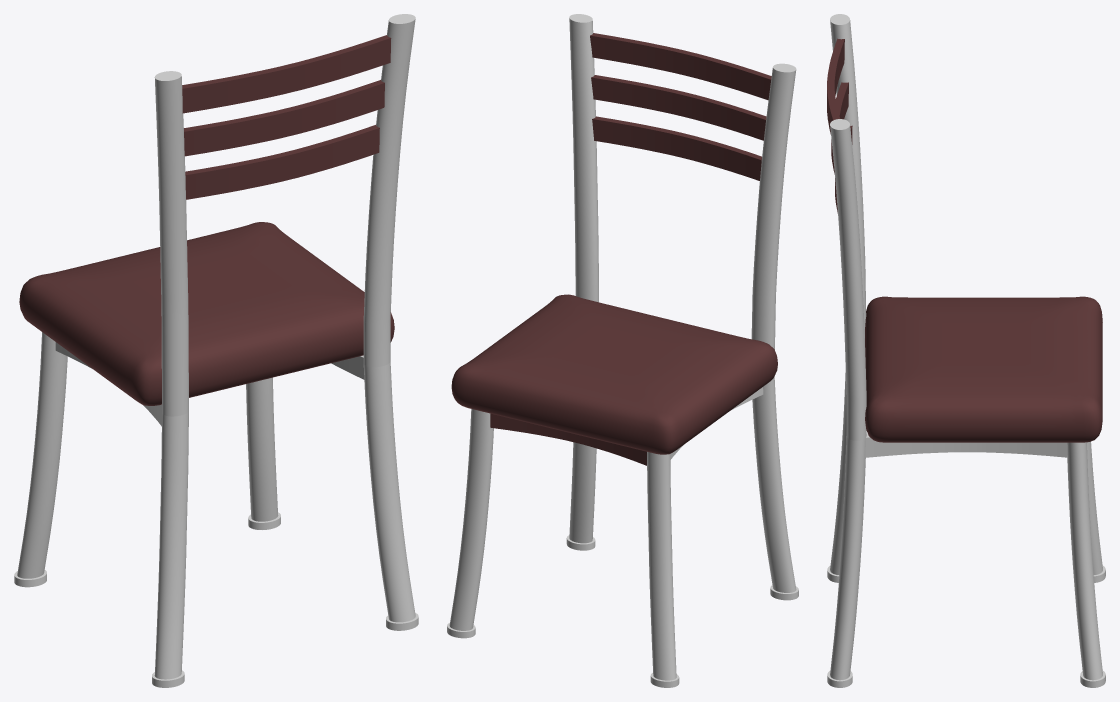
File: Chaise1_5.fbx
3 renders of one model, left to right at view 1: azimuth 30°, elevation 25°; view 2: azimuth 150°, elevation 25°; view 3: azimuth 270°, elevation 25°, orthographic. The views are drawn at different scales.
Visible parts, largest first — view 1: pCube2654, pCylinder1646, pCylinder1647, pCylinder1651, pCylinder1650, pCylinder1648, pCube2653, pCube2652, pCube2651, pCylinder1649; view 2: pCube2654, pCylinder1646, pCylinder1647, pCylinder1648, pCylinder1649, pCylinder1651, pCube2653, pCube2652, pCube2651, pCylinder1650, pCube2659; view 3: pCube2654, pCylinder1647, pCylinder1650, pCylinder1649, pCylinder1646, pCube2655, pCylinder1651, pCylinder1648, pCube2653, pCube2652.
Part boxes in pixels (x1,y1,x2,y2): pCube2654: [19, 222, 394, 405]; pCylinder1646: [154, 71, 188, 416]; pCylinder1647: [363, 14, 415, 367]; pCylinder1651: [152, 411, 188, 687]; pCylinder1650: [363, 362, 418, 630]; pCylinder1648: [14, 332, 67, 587]; pCube2653: [182, 35, 391, 113]; pCube2652: [184, 80, 384, 156]; pCube2651: [185, 125, 379, 199]; pCylinder1649: [246, 377, 280, 529]; pCube2654: [451, 294, 777, 454]; pCylinder1646: [751, 63, 796, 349]; pCylinder1647: [569, 14, 598, 302]; pCylinder1648: [647, 452, 679, 687]; pCylinder1649: [447, 409, 493, 638]; pCylinder1651: [752, 376, 798, 600]; pCube2653: [590, 33, 771, 100]; pCube2652: [591, 75, 766, 140]; pCube2651: [592, 116, 761, 180]; pCylinder1650: [566, 442, 596, 550]; pCube2659: [490, 413, 646, 465]; pCube2654: [865, 296, 1102, 442]; pCylinder1647: [830, 119, 866, 440]; pCylinder1650: [827, 436, 865, 687]; pCylinder1649: [1067, 442, 1105, 687]; pCylinder1646: [830, 14, 866, 337]; pCube2655: [865, 433, 1067, 457]; pCylinder1651: [827, 373, 846, 582]; pCylinder1648: [1087, 441, 1105, 582]; pCube2653: [827, 38, 844, 134]; pCube2652: [831, 82, 848, 174].
Bounding box in the file's own units: 38.53 × 84.55 × 38.35.
